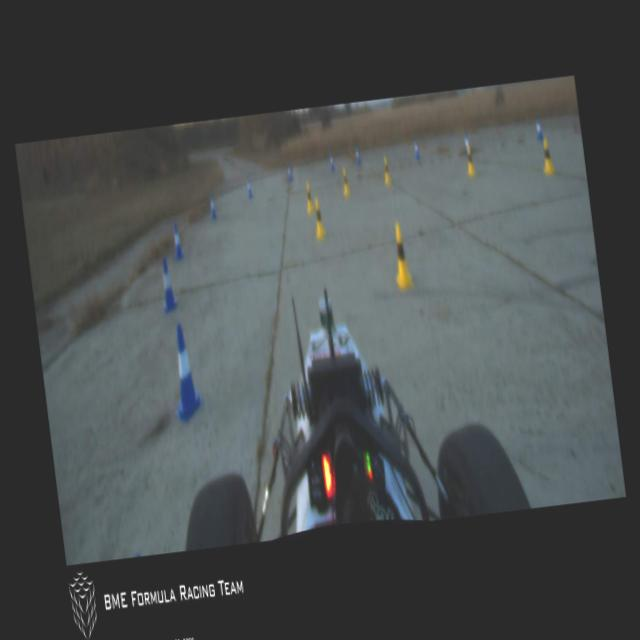blue_cone: (165, 320, 205, 426), (155, 256, 178, 313), (170, 224, 184, 259), (208, 192, 218, 220), (533, 115, 543, 143), (462, 131, 470, 156), (412, 138, 420, 162), (245, 175, 252, 198), (328, 151, 335, 173), (354, 146, 361, 165), (286, 160, 292, 182)
yellow_cone: (388, 222, 413, 290), (540, 136, 556, 176), (311, 198, 326, 238), (303, 180, 314, 215), (465, 144, 476, 177), (341, 168, 351, 196), (382, 156, 392, 184)
